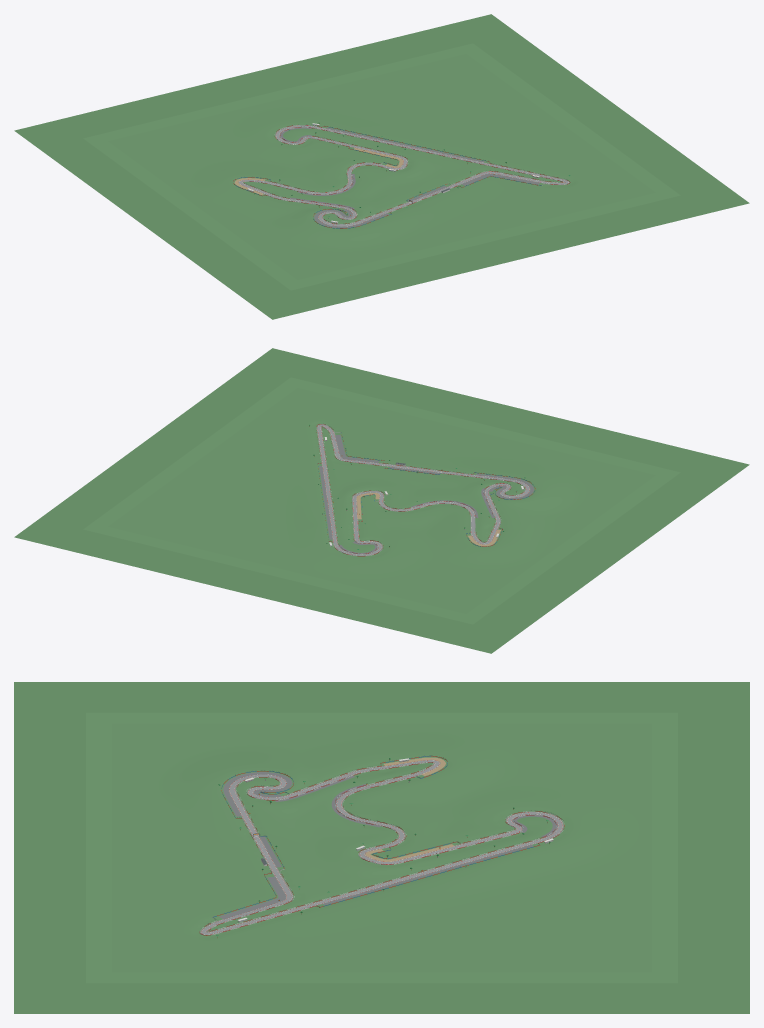
The model's file is shanghai.glb.
3 renders of one model, top to bottom at view 1: azimuth 30°, elevation 25°; view 2: azimuth 150°, elevation 25°; view 3: azimuth 270°, elevation 25°, orthographic. The views are drawn at different scales.
Visible parts, largest first — view 1: terrain_infield, terrain_outskirts, terrain_verge, track_surface, continuous_safety_barriers, track_runoff, asphalt_runoff_zones, track_embankment; view 2: terrain_infield, terrain_outskirts, terrain_verge, track_surface, asphalt_runoff_zones, track_runoff, continuous_safety_barriers, track_embankment; view 3: terrain_infield, terrain_outskirts, terrain_verge, track_surface, asphalt_runoff_zones, continuous_safety_barriers, track_runoff, track_embankment, track_curbs, gravel_runoff_zones.
Part boxes in pixels (x1,y1,x2,y2): terrain_infield: [108, 54, 655, 279]; terrain_outskirts: [14, 14, 749, 319]; terrain_verge: [83, 43, 680, 290]; track_surface: [239, 125, 568, 226]; continuous_safety_barriers: [233, 125, 570, 228]; track_runoff: [238, 125, 569, 226]; asphalt_runoff_zones: [279, 127, 539, 228]; track_embankment: [243, 125, 569, 224]; terrain_infield: [108, 388, 655, 613]; terrain_outskirts: [14, 348, 749, 653]; terrain_verge: [83, 377, 680, 624]; track_surface: [317, 424, 529, 555]; asphalt_runoff_zones: [319, 435, 533, 554]; track_runoff: [316, 424, 530, 555]; continuous_safety_barriers: [316, 424, 535, 556]; track_embankment: [316, 424, 525, 556]; terrain_infield: [112, 723, 651, 972]; terrain_outskirts: [14, 682, 749, 1013]; terrain_verge: [86, 712, 677, 983]; track_surface: [201, 760, 562, 934]; asphalt_runoff_zones: [219, 772, 557, 919]; continuous_safety_barriers: [199, 756, 564, 935]; track_runoff: [200, 759, 563, 934]; track_embankment: [199, 762, 565, 935]; track_curbs: [201, 760, 562, 934]; gravel_runoff_zones: [365, 757, 453, 861].
Size of the model in its own units: 2402 by 17.67 by 2252.
